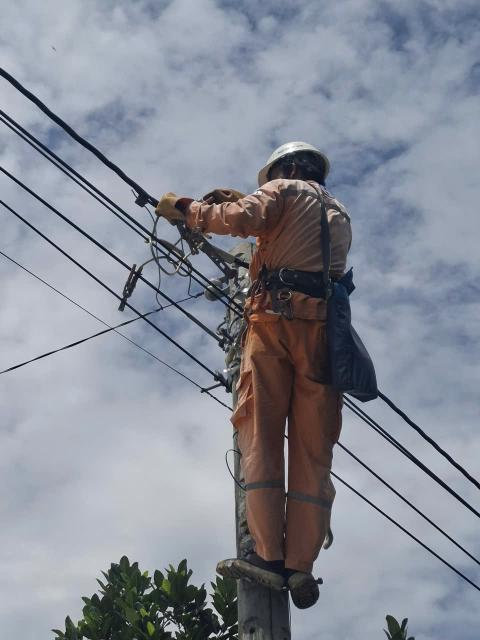gloves: (209, 174, 253, 217), (149, 189, 192, 229)
harness: (246, 260, 349, 309)
helmet: (256, 122, 339, 191)
shoes: (201, 540, 297, 596), (288, 567, 327, 613)
